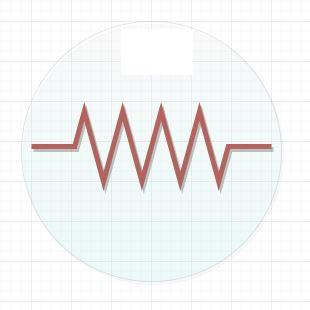resistor: (53, 97, 237, 198)
